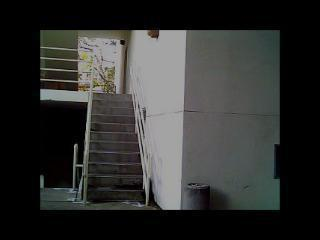Escaleras: (85, 87, 153, 202), (42, 178, 76, 193)
